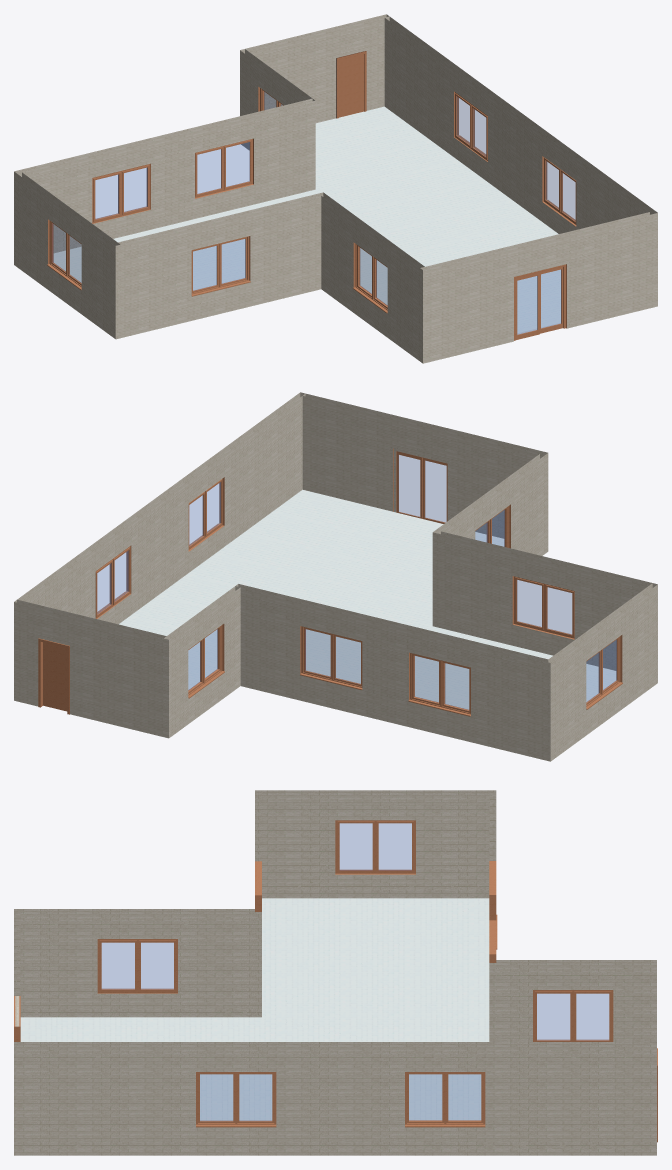
Rendered from telhado39a.gltf.
3 renders of one model, top to bottom at view 1: azimuth 30°, elevation 25°; view 2: azimuth 150°, elevation 25°; view 3: azimuth 270°, elevation 25°, orthographic. The views are drawn at different scales.
Visible parts, largest first — view 1: root; view 2: root; view 3: root.
Boxes of the visible parts, x1,y1,x2,y2 form: root: (14,14,657,363); root: (14,392,657,761); root: (14,790,657,1155).
Bounding box in the file's own units: 15.06 × 3.05 × 16.02.
8 materials, 3 textured.
